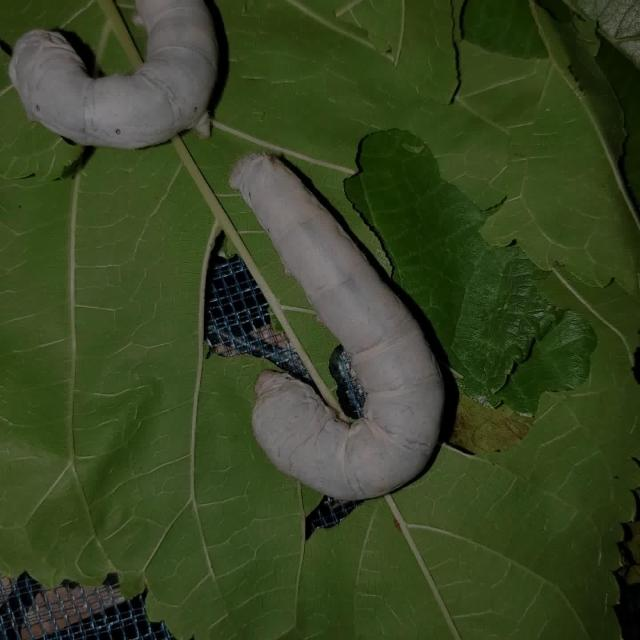Healthy: (218, 149, 451, 502)
